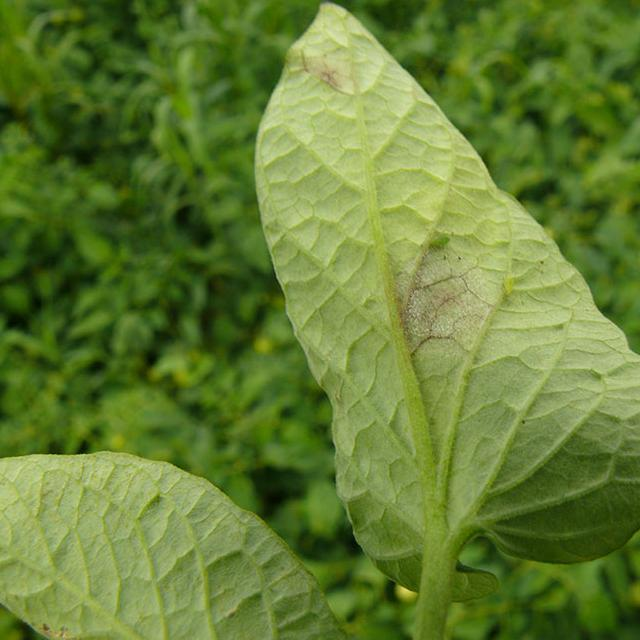Tomato leaf late blight: (243, 0, 640, 612)
